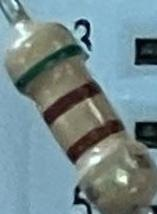Black: (39, 79, 106, 130)
Brown: (62, 114, 130, 169)
Green: (13, 38, 90, 95)
Side-Silver: (81, 146, 155, 202)
